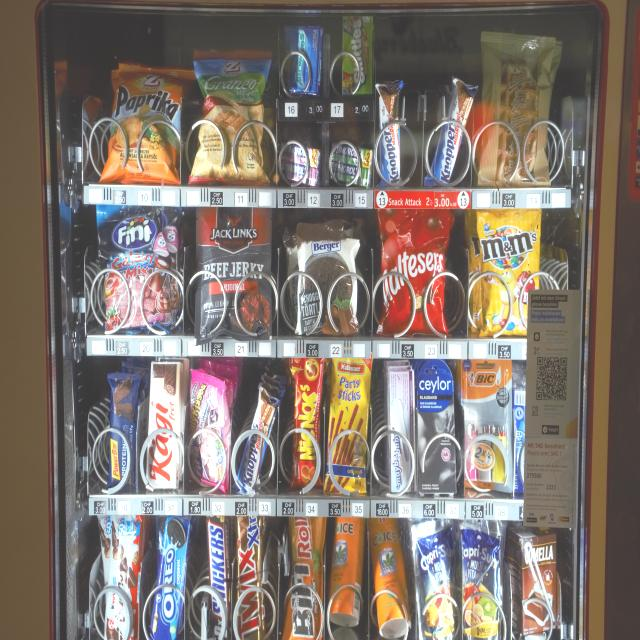airwaves_menthoneucalyptus_riegel_14_1_50173167: (293, 24, 321, 92)
berger____: (295, 217, 369, 345)
bifi_roll__50__4251097402635: (280, 510, 322, 640)
bueno___43__4008400320328: (104, 508, 146, 640)
c-swiss_dosenabisicetea__33__9120025930135: (328, 512, 369, 630), (373, 511, 411, 638)
caprisun_multivitamin__20__4000177605004: (458, 511, 511, 640), (414, 513, 458, 638)
comella_schokodrink__33__7613100037253: (516, 529, 558, 639)
fini_galaxymix_packung_100_1_8410525150364: (100, 202, 182, 332)
fini_jellykisses_packung_80_1_8410525116704: (190, 372, 228, 488)
jacklinks_beefjerkyorginal__25__4047751730219: (192, 199, 279, 348)
jlbrichard_gauffre__90__5410495002000: (483, 30, 551, 186)
kagi___50__7610046000259: (144, 356, 185, 494)
knoppers_riegel____4035800488808: (422, 63, 476, 193), (371, 73, 413, 195), (235, 378, 277, 494)
lorenz_nicnacs__40__4018077798818: (290, 347, 329, 493)
malburner_partysticks__40__7610200279682: (322, 356, 374, 502)
maltesers___100__5000159023061: (375, 201, 456, 338)
mnms_gelb__45__40111445: (474, 205, 546, 344)
oreo___66__84100733: (150, 510, 189, 640)
powerbar_proteinplusschoko__55__4029679520028: (104, 372, 140, 490)
skittles_sour_riegel_51_1_: (341, 13, 373, 98)
snickers___50__5000159461122: (201, 511, 233, 637)
stimorol_spearmint_riegel_14_1_: (330, 138, 371, 190)
stimorol_wildcherry_riegel_14_1_57060330: (280, 144, 320, 187)
twix___50__5000159459228: (234, 507, 267, 640)
zweifel_graneochilli__100__7610095184009: (187, 43, 277, 188)
zweifel_paprika__90__7610095013002: (92, 52, 187, 186)
